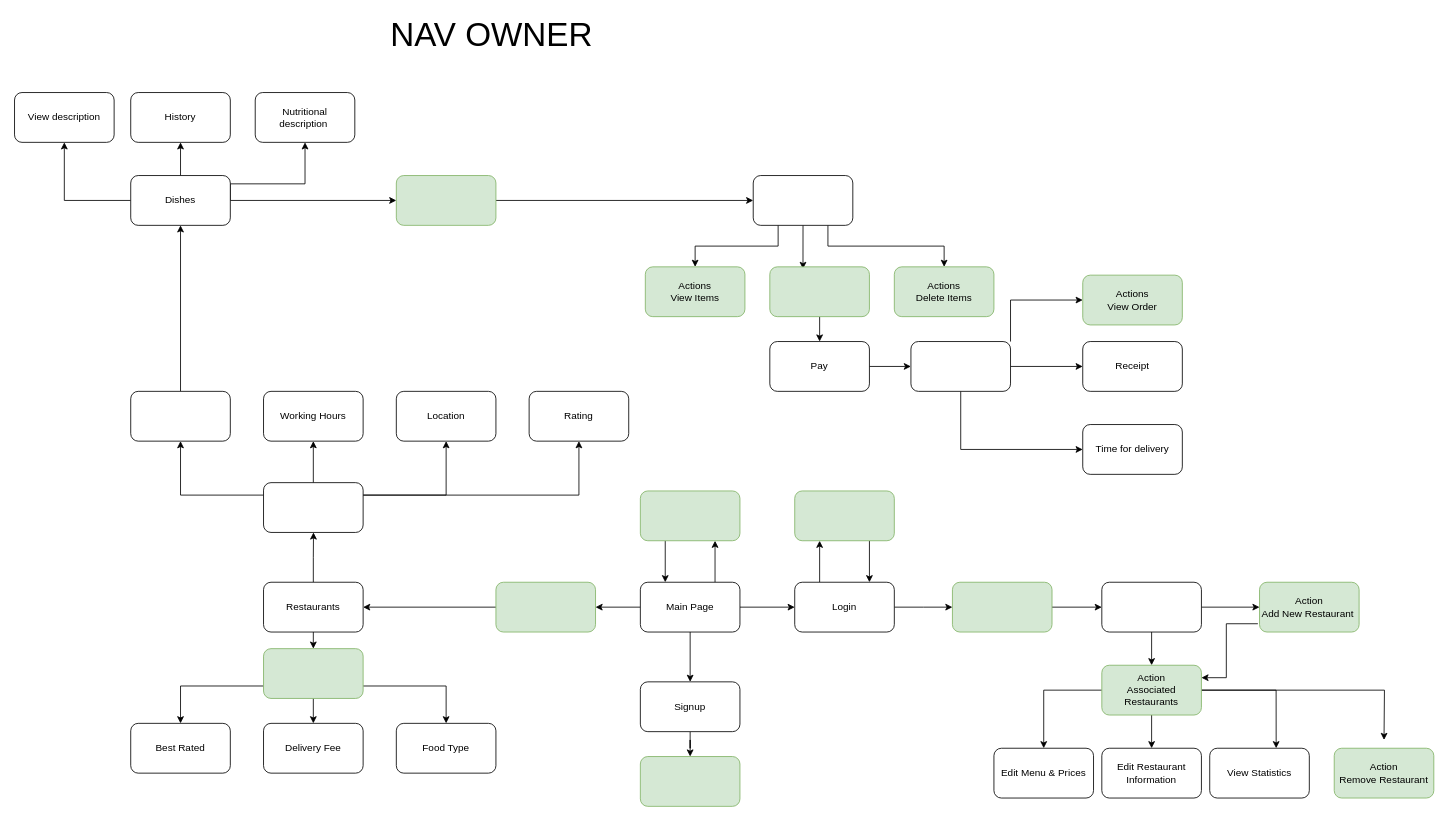
Image size: 1448x821. Some labels were removed from this diagram. Each missing label, with the centre of its shape:
"Action Add To Cart" belongs at pixel 445 200.
"Action Filter" belongs at pixel 313 673.
"Action Login" belongs at pixel 1002 606.
"Action Logout" belongs at pixel 690 515.
"Action Reset PWD" belongs at pixel 844 515.
"Action Search" belongs at pixel 545 606.
"Action Signup Owner" belongs at pixel 690 781.
"Actions Checkout" belongs at pixel 819 291.
"Cart" belongs at pixel 802 200.
"Menu" belongs at pixel 180 416.
"Order" belongs at pixel 960 366.
"Profile Owner" belongs at pixel 1151 606.
"Restaurant Profile" belongs at pixel 313 507.
